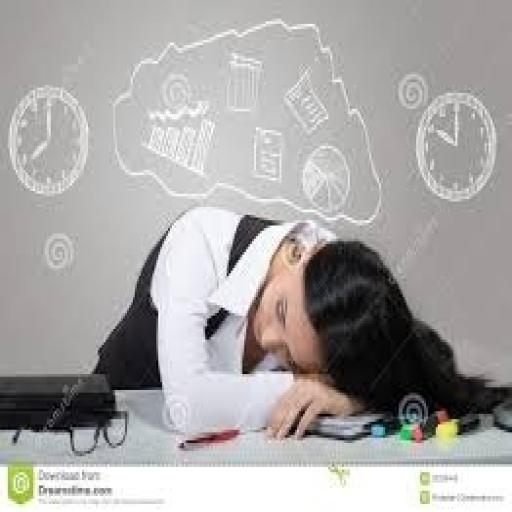sleeping: (90, 202, 510, 443)
